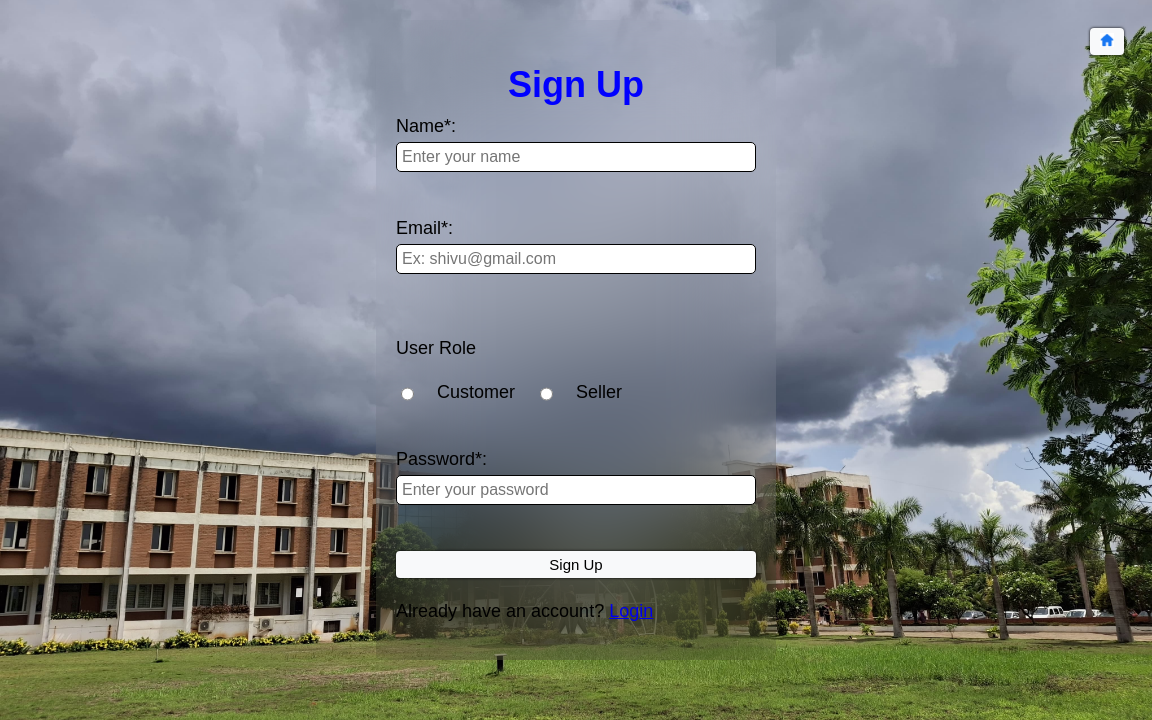
Test: SignUp page › shows validation errors
Click the button "Sign Up" at (576, 565), box [396,551,756,578]
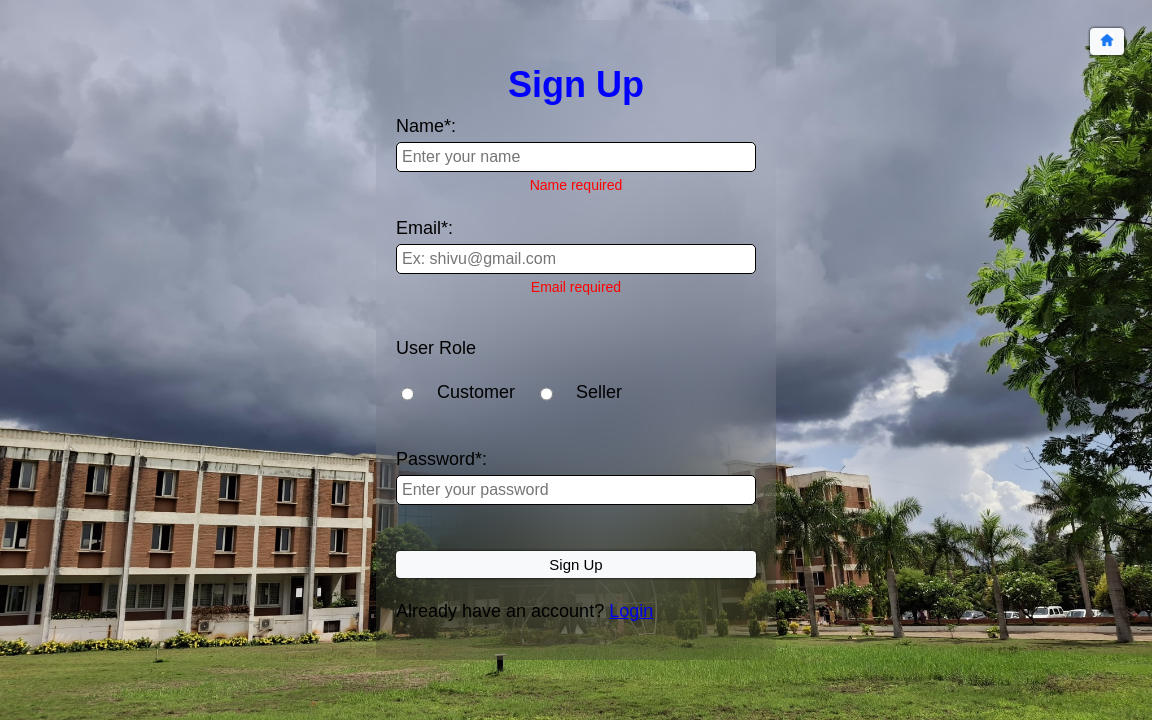
Expected: the text "Name required" is shown, [530,177,622,193]
Expected: the text "Email required" is shown, [531,279,621,295]
